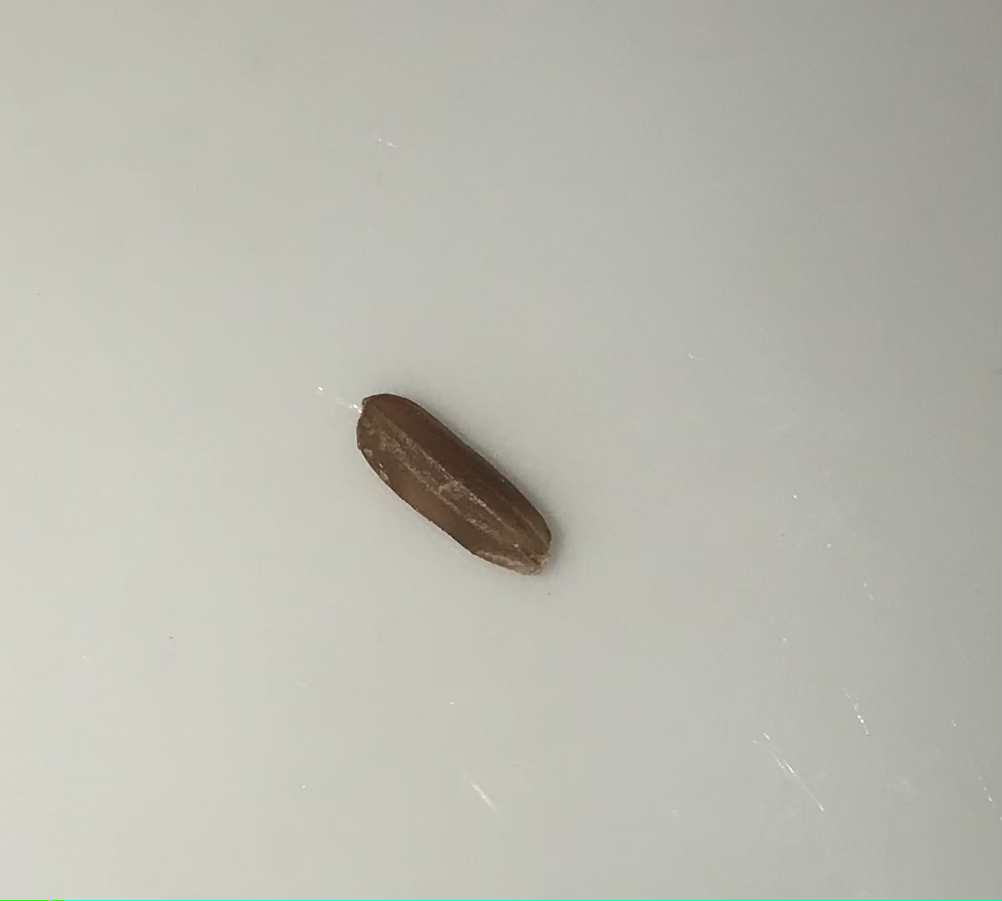Gao Lut Do: (346, 383, 562, 580)
